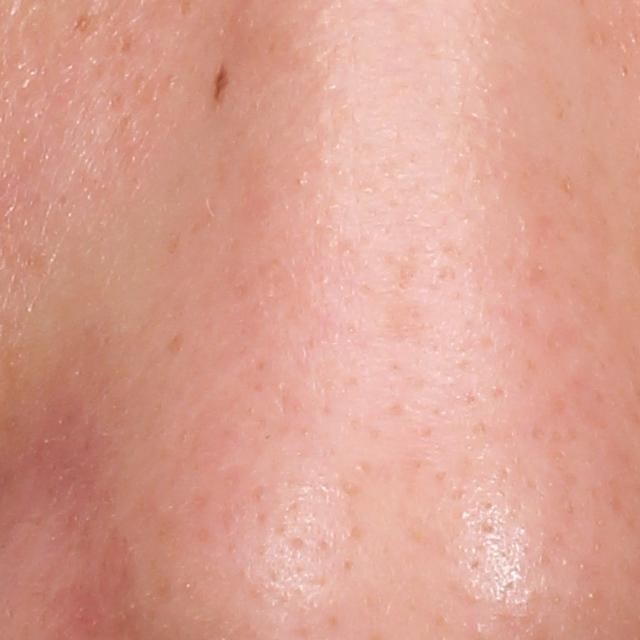melasma: (69, 6, 107, 41)
nevus: (210, 62, 233, 104)
